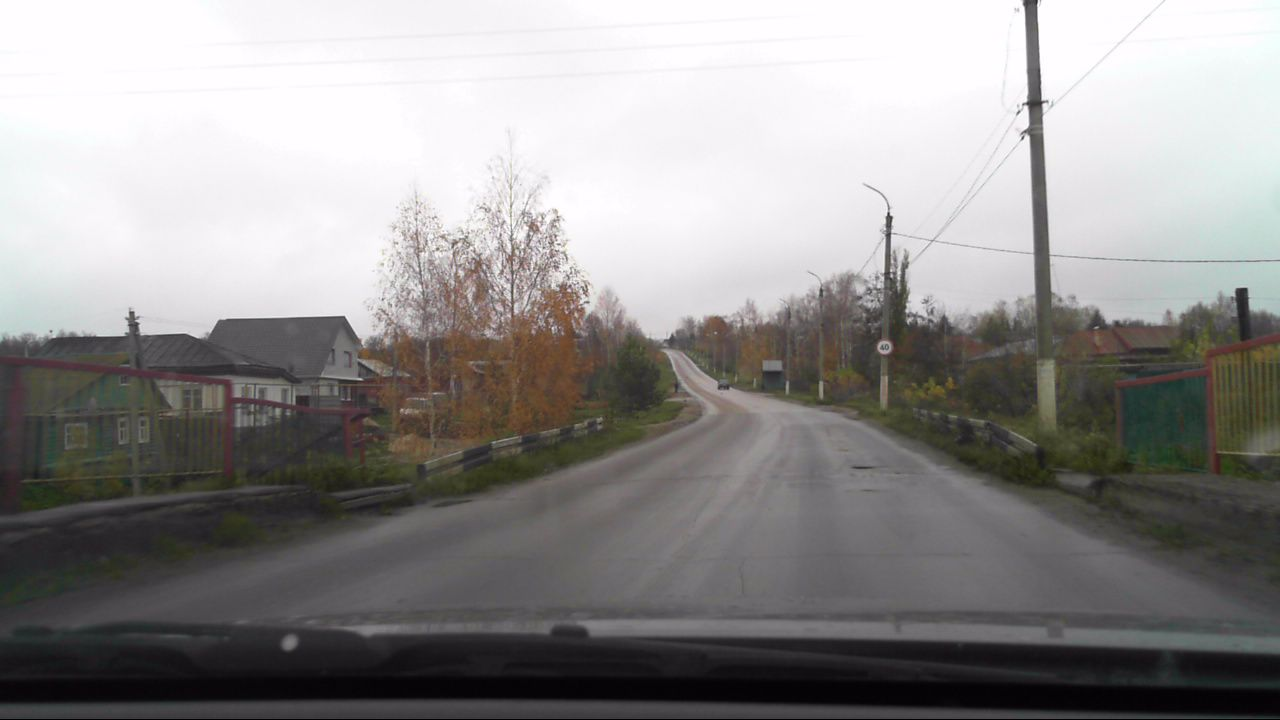speed_warning_40: (874, 338, 894, 358)
